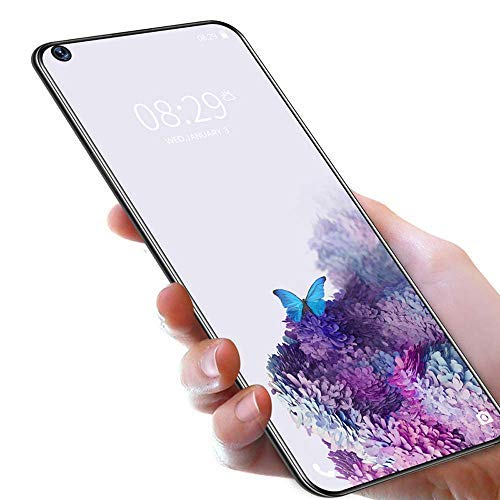phones: (20, 14, 500, 500)
